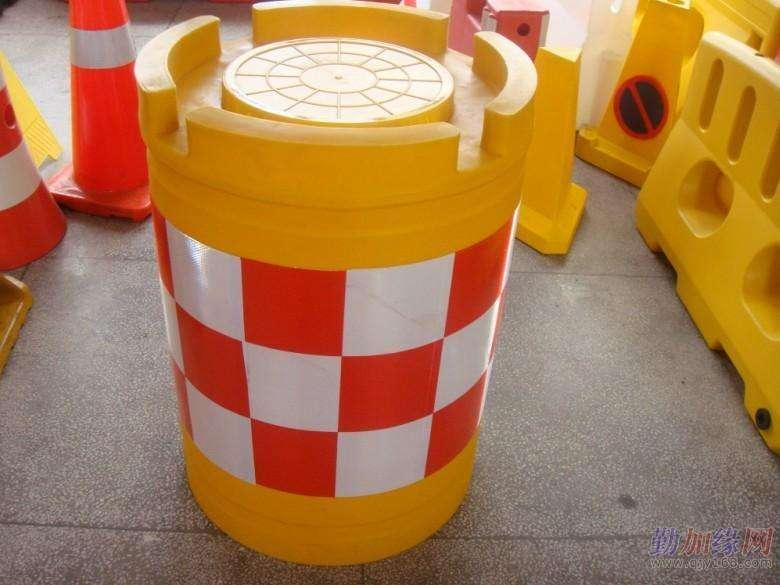sign: (127, 10, 530, 570)
